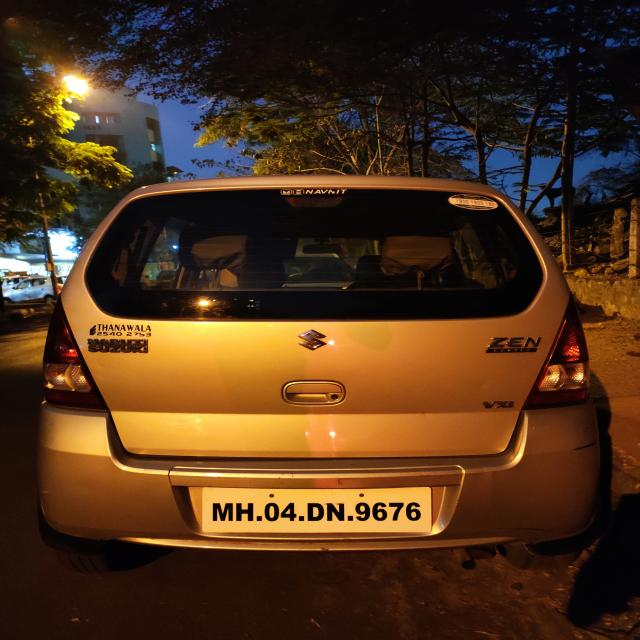Number-Plate: (208, 486, 431, 533)
